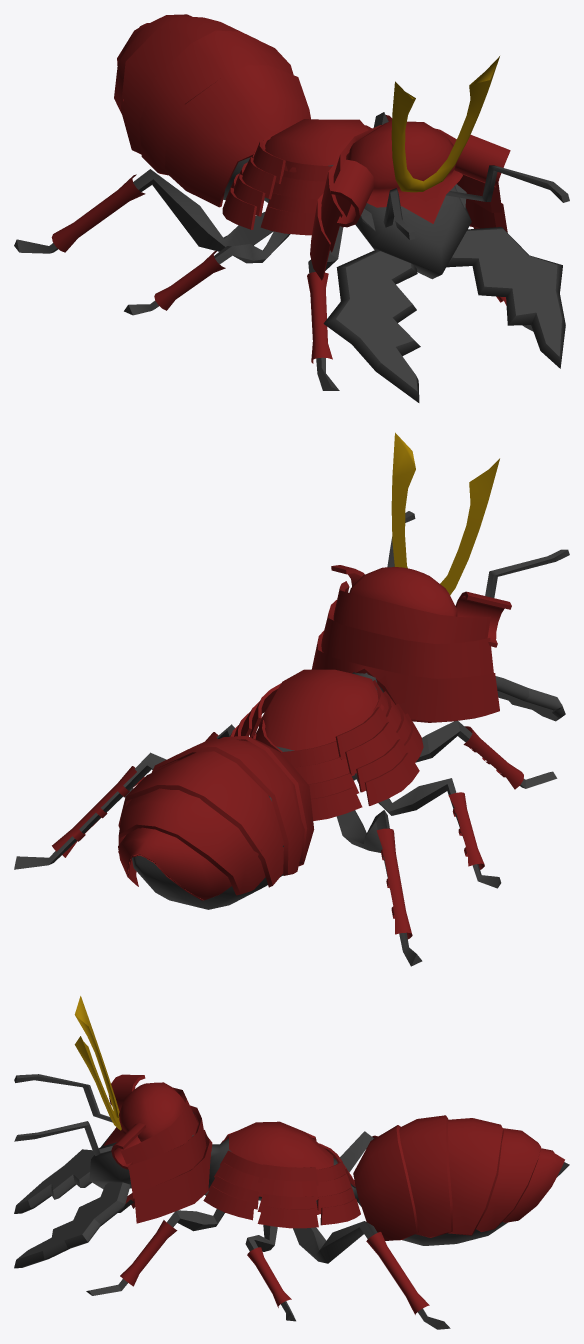
Rendered from Shogun_Ant_prot.fbx.
3 renders of one model, top to bottom at view 1: azimuth 30°, elevation 25°; view 2: azimuth 150°, elevation 25°; view 3: azimuth 270°, elevation 25°, orthographic. The views are drawn at different scales.
Parts seen in each view (by area): view 1: pCylinder15; view 2: pCylinder15; view 3: pCylinder15.
Boxes of the visible parts, left/top/right/bottom form: pCylinder15: left=14, top=14, right=569, bottom=402; pCylinder15: left=14, top=432, right=569, bottom=966; pCylinder15: left=14, top=996, right=569, bottom=1329.
Size of the model in its own units: 169 by 120 by 256.
